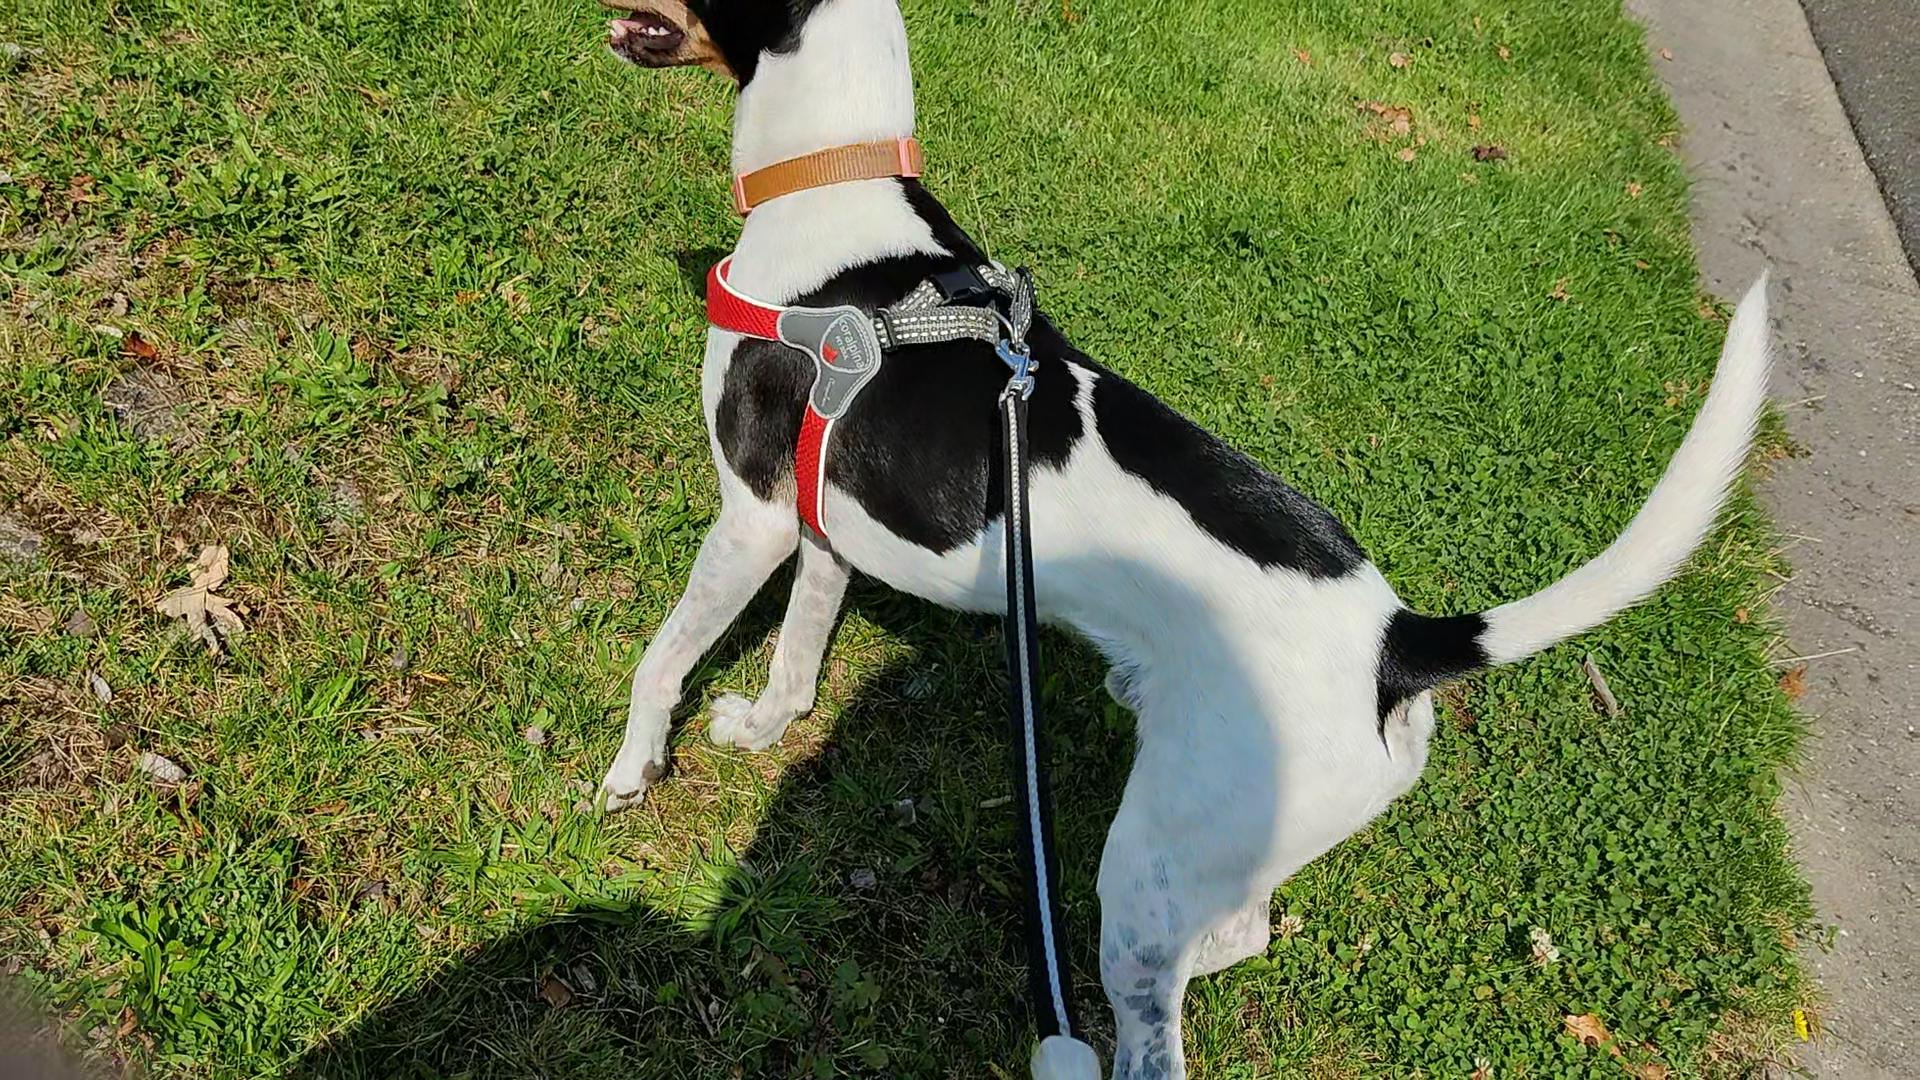Dog: (583, 0, 1774, 1080)
